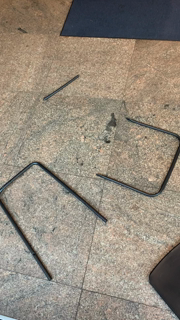C pipe: (92, 114, 180, 201)
U pipe: (2, 161, 110, 284)
i pipe: (43, 74, 85, 105)
